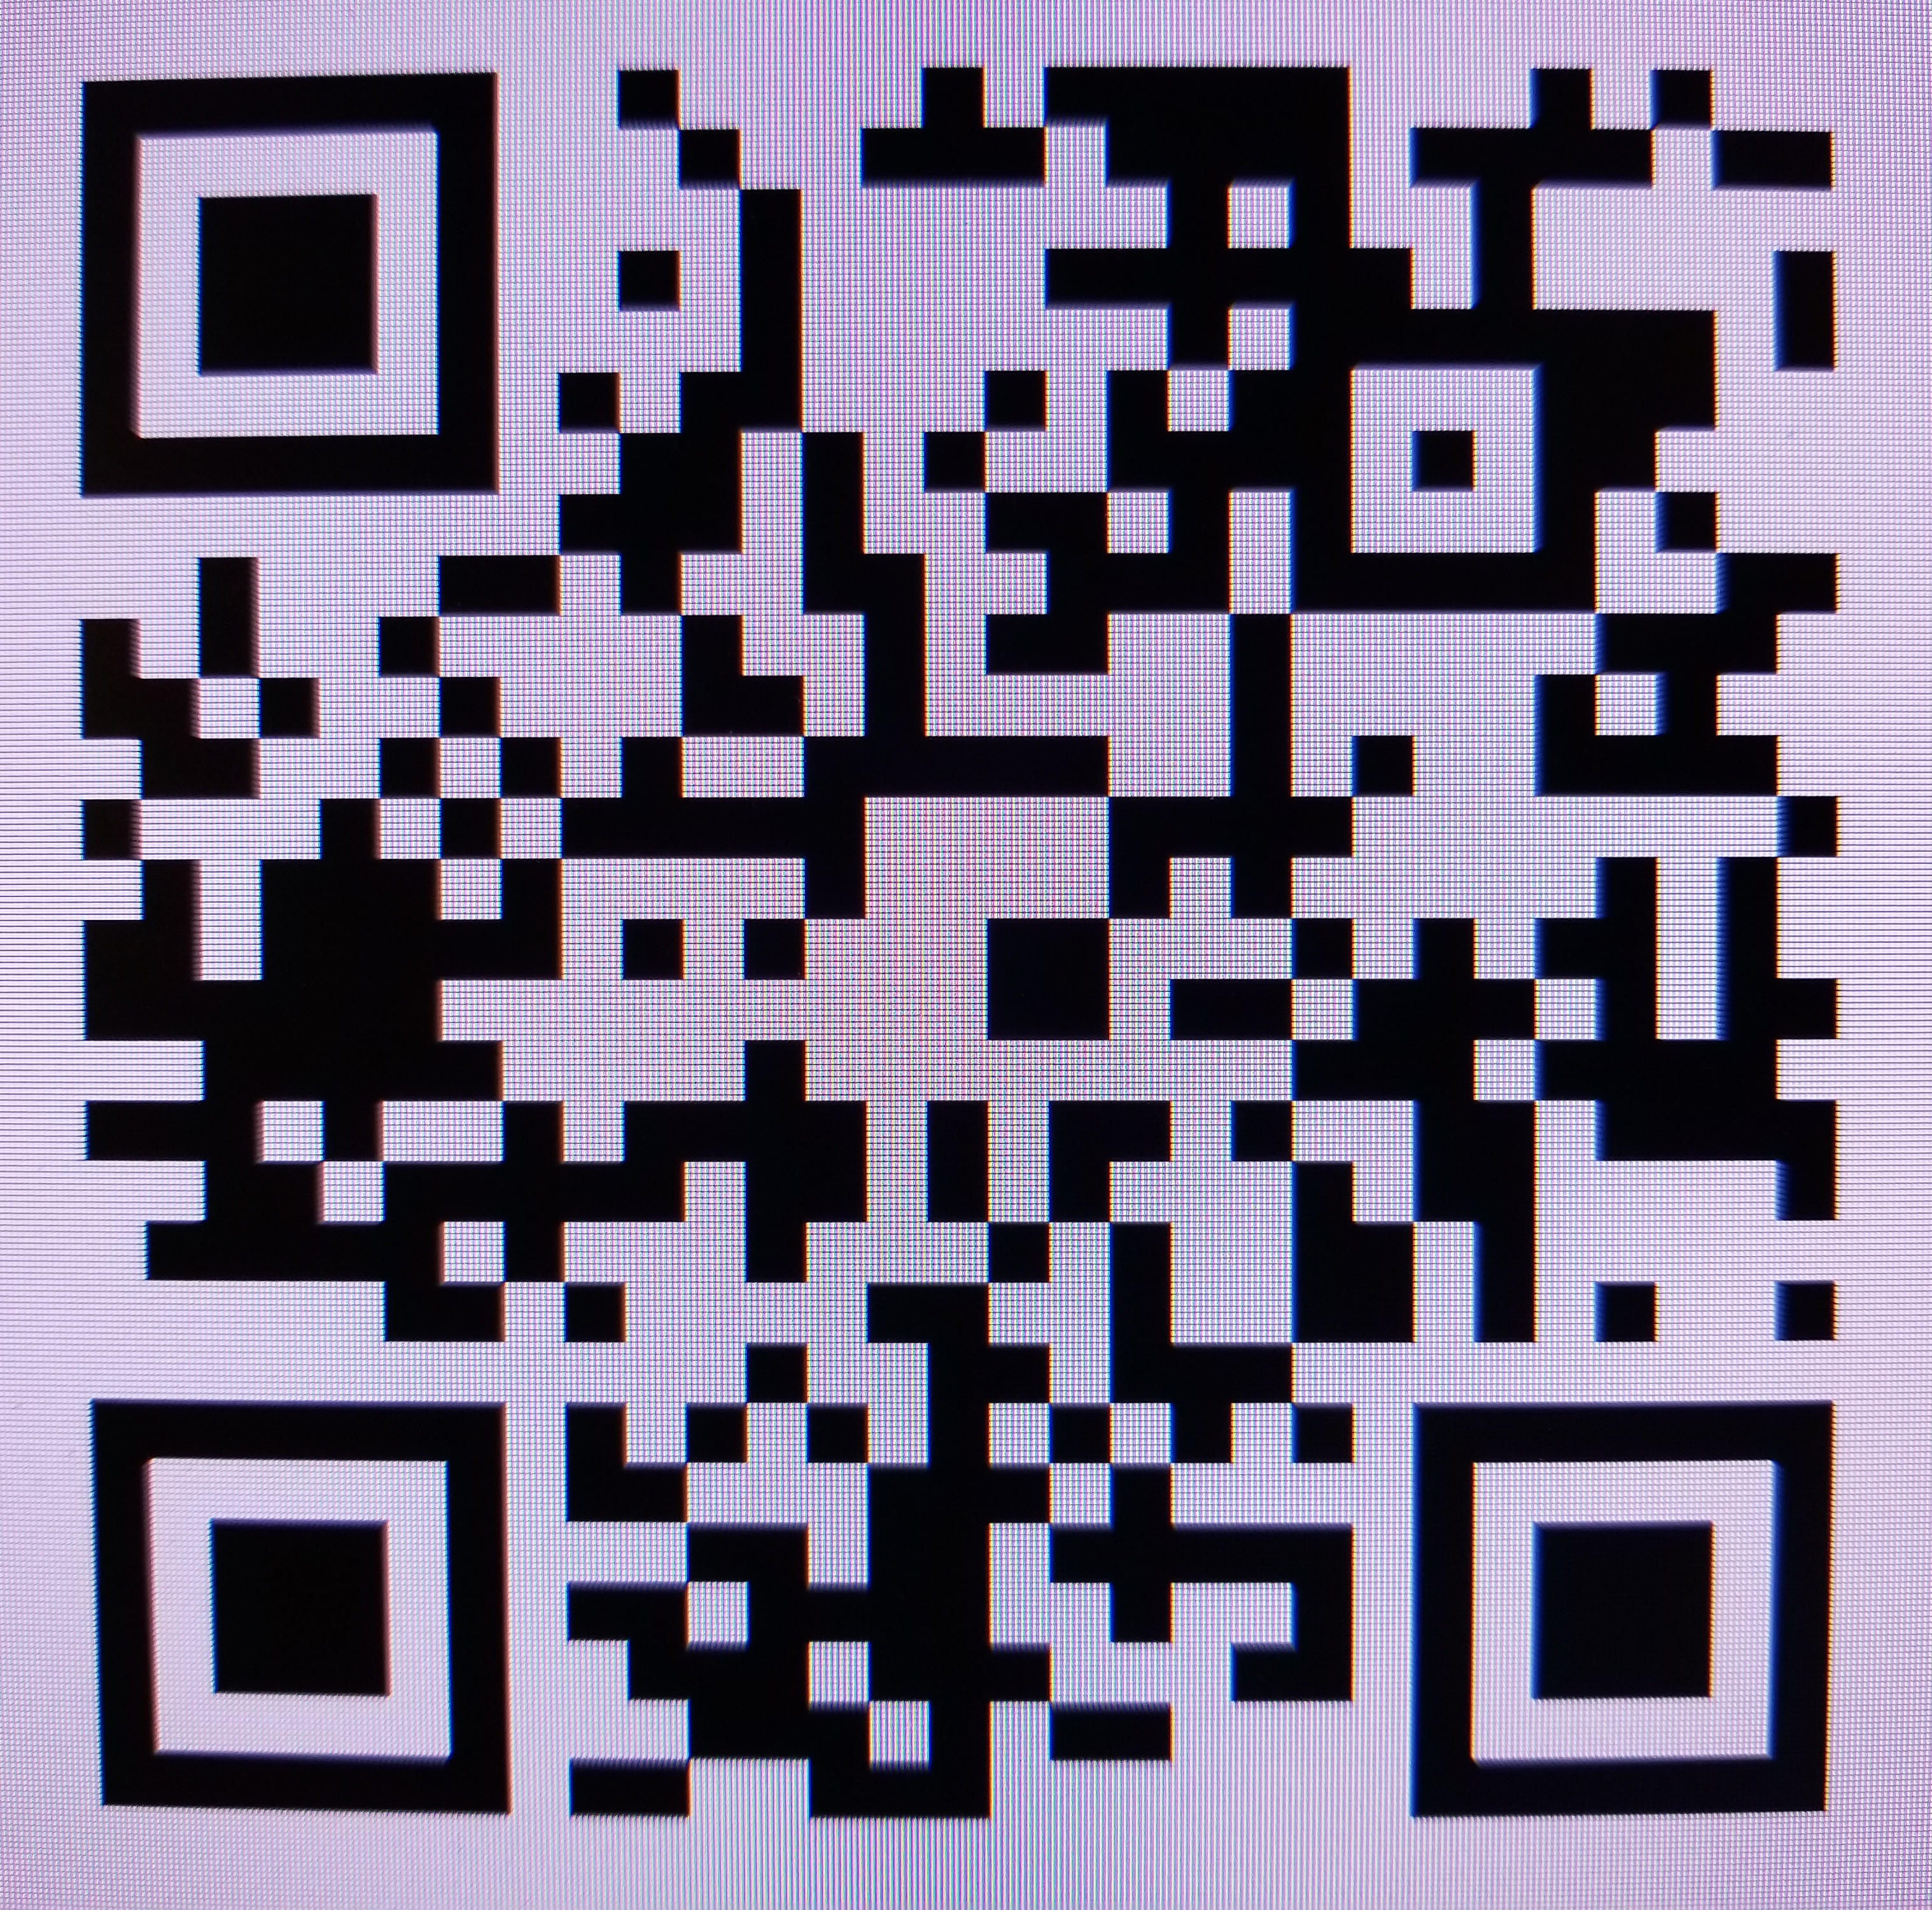QR_CODE: (35, 14, 1869, 1845)
